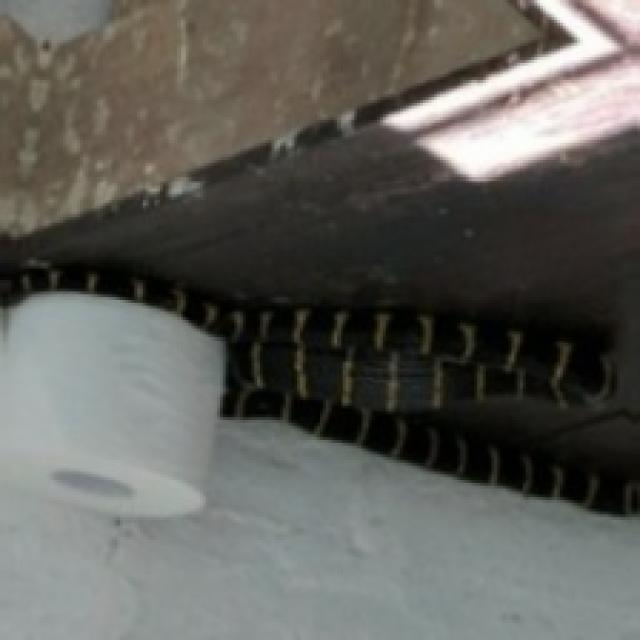mangrove cat snake: (0, 271, 640, 513)
